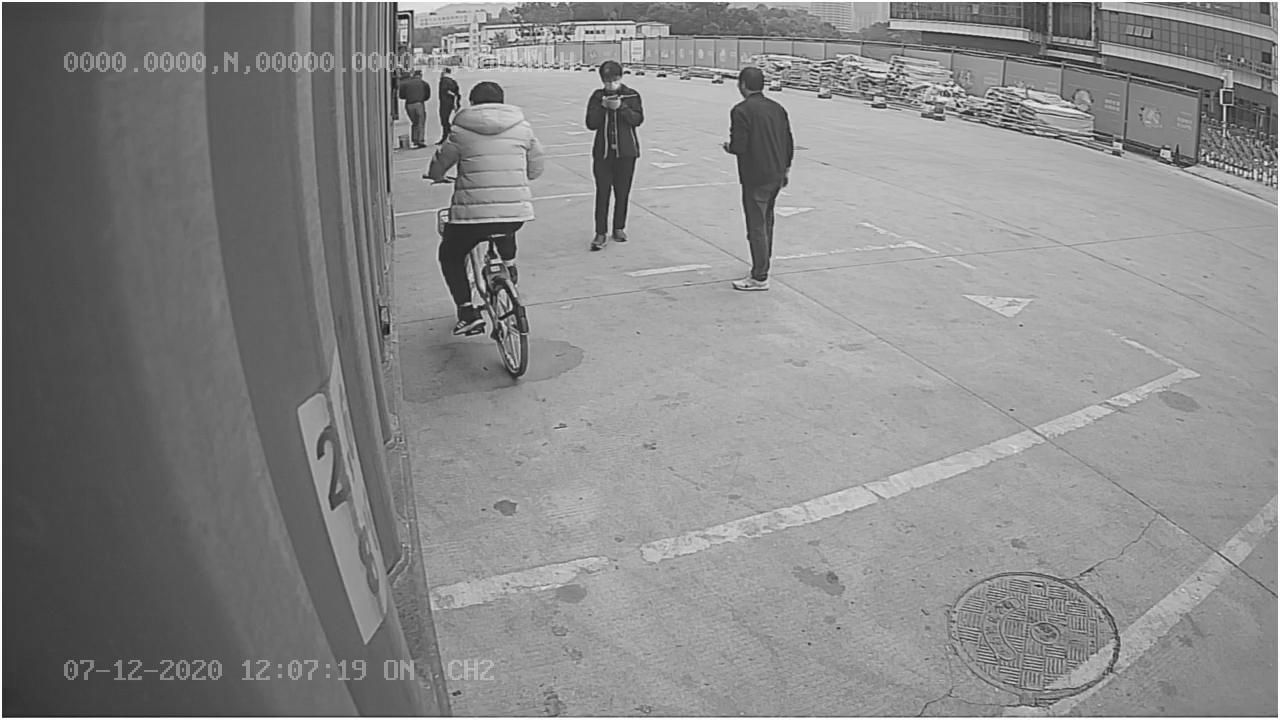person: (720, 67, 802, 292)
